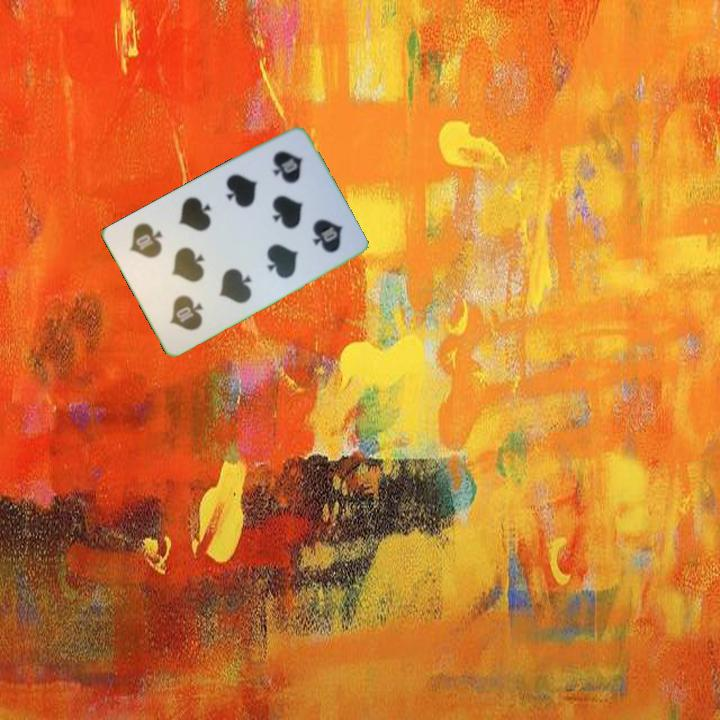s_10.png: (142, 261, 223, 346), (248, 134, 328, 219)
